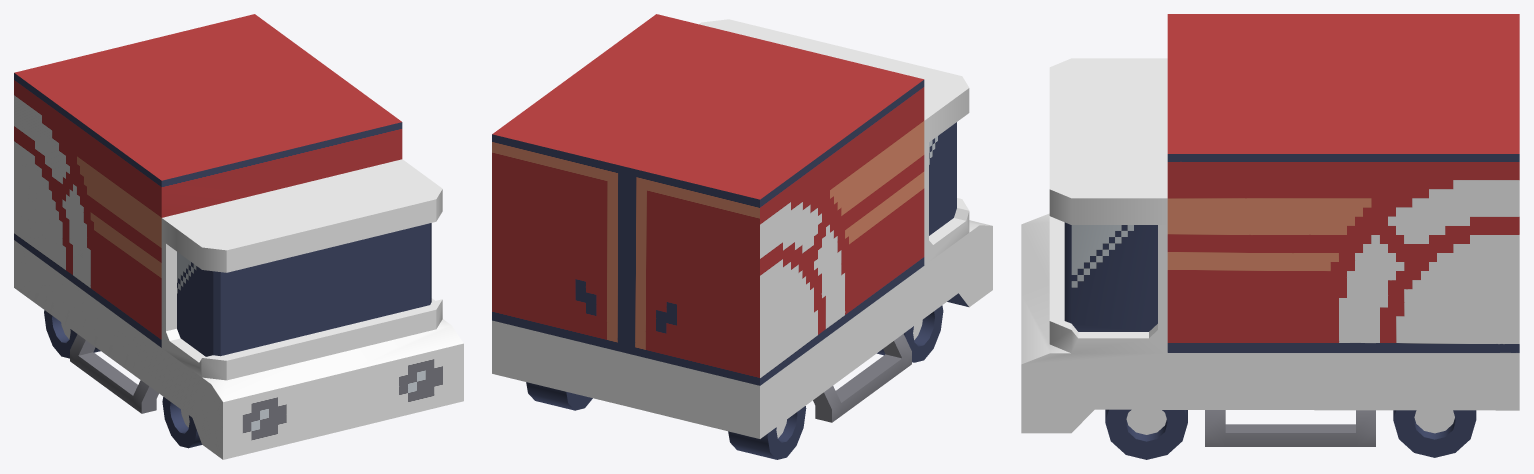
Rendered from MovingTruck.FBX.
3 views of the same model, side by side, from view 1: azimuth 30°, elevation 25°; view 2: azimuth 150°, elevation 25°; view 3: azimuth 270°, elevation 25° (orthographic). The views are drawn at different scales.
Visible parts, largest first — view 1: MovingTruck; view 2: MovingTruck; view 3: MovingTruck.
Part boxes in pixels (<box>): MovingTruck: <box>14,14,463,459</box>; MovingTruck: <box>492,14,992,459</box>; MovingTruck: <box>1021,14,1519,459</box>.
Size of the model in its own units: 220 by 221 by 320.
1 material, 1 textured.
